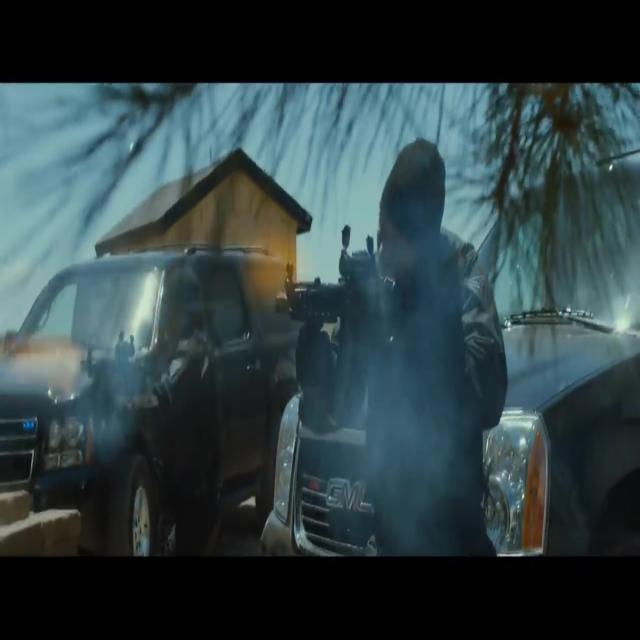Weapon: (262, 222, 431, 392), (66, 328, 174, 417)
